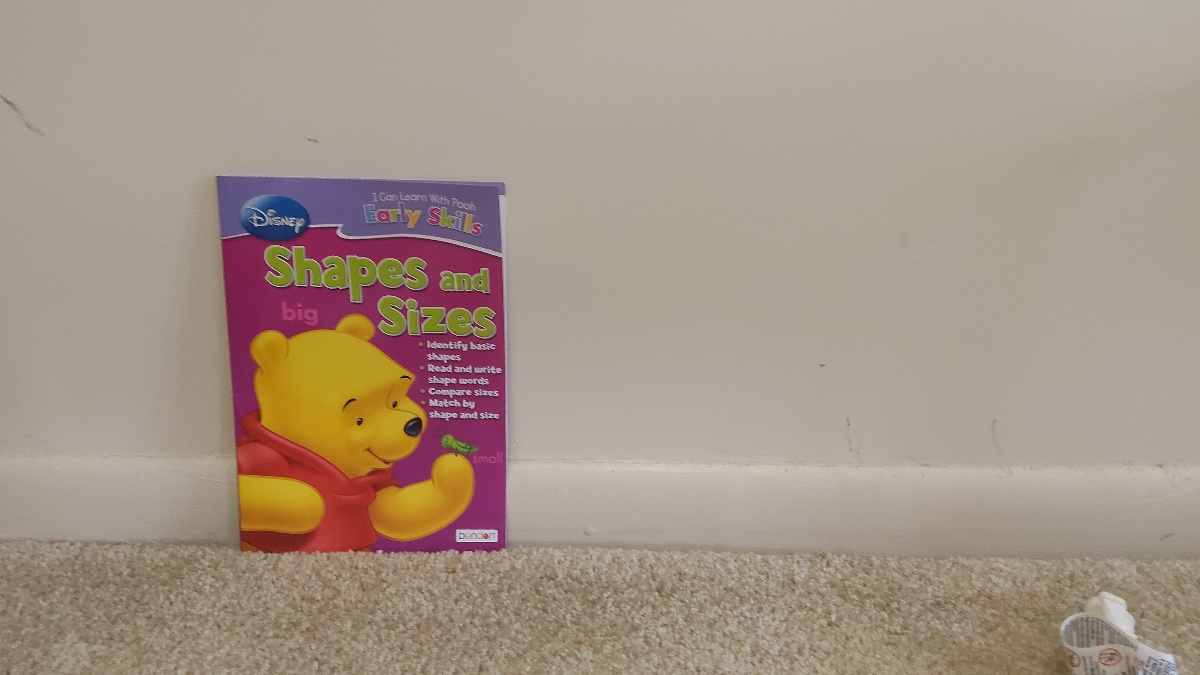book: (217, 179, 508, 551)
